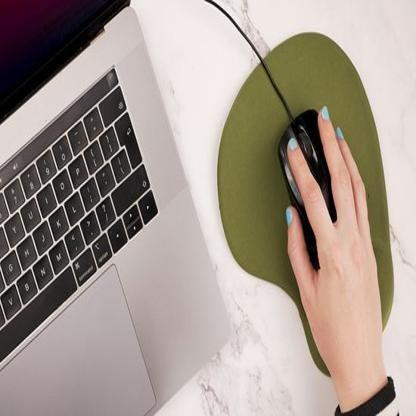not trash: (0, 0, 240, 416), (275, 112, 358, 238)
